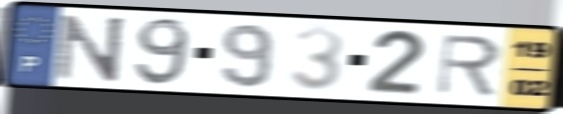2: (364, 27, 431, 98)
3: (286, 22, 348, 94)
9: (130, 15, 195, 87), (216, 21, 277, 90)
N: (54, 12, 129, 83)
R: (433, 33, 504, 99)
